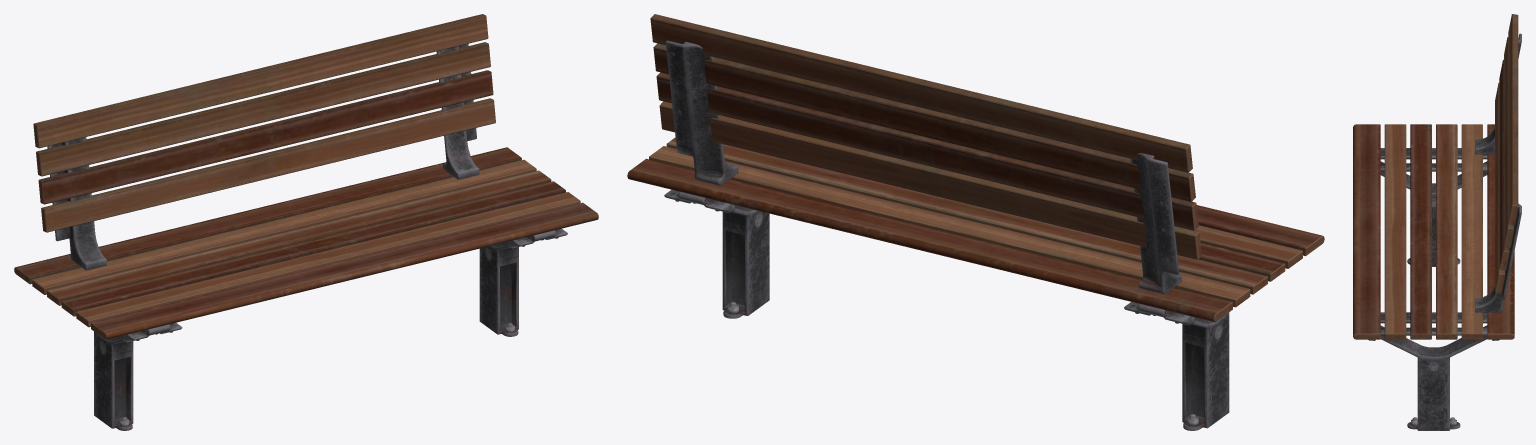
File: bench.glb
3 views of the same model, side by side, from view 1: azimuth 30°, elevation 25°; view 2: azimuth 150°, elevation 25°; view 3: azimuth 270°, elevation 25° (orthographic). The views are drawn at different scales.
Parts seen in each view (by area): view 1: seat_back, seat_bench, legs_double, legs_double.001, back_support_l, back_support_r; view 2: seat_back, seat_bench, legs_double, legs_double.001, back_support_r, back_support_l; view 3: seat_bench, seat_back, legs_double.001, legs_double, back_support_r, back_support_l.
Boxes of the visible parts, <box> form: seat_back: <box>33,14,495,232</box>; seat_bench: <box>14,147,598,339</box>; legs_double: <box>94,323,182,430</box>; legs_double.001: <box>479,228,567,336</box>; back_support_l: <box>47,137,106,270</box>; back_support_r: <box>436,43,479,179</box>; seat_back: <box>650,14,1201,259</box>; seat_bench: <box>627,137,1324,322</box>; legs_double: <box>1124,302,1229,430</box>; legs_double.001: <box>664,189,769,318</box>; back_support_r: <box>665,40,738,185</box>; back_support_l: <box>1131,153,1181,294</box>; seat_bench: <box>1353,124,1514,339</box>; seat_back: <box>1495,14,1518,293</box>; legs_double.001: <box>1368,312,1499,430</box>; legs_double: <box>1380,148,1487,266</box>; back_support_r: <box>1475,203,1521,313</box>; back_support_l: <box>1475,33,1521,154</box>.
Bounding box in the file's own units: 1.84 × 0.9615 × 0.6265.
Materials: 4 (4 with a texture image).
